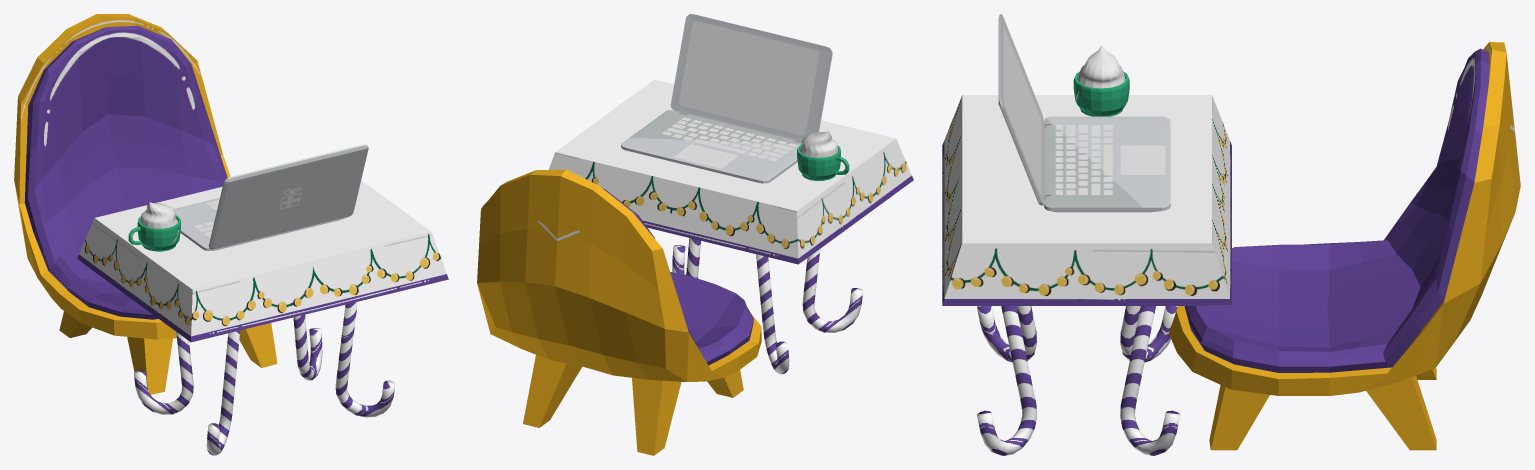
The model's file is scene3_furniture.glb.
The picture shows the model from 3 angles, left to right: view 1: azimuth 30°, elevation 25°; view 2: azimuth 150°, elevation 25°; view 3: azimuth 270°, elevation 25°; orthographic projection. The views are drawn at different scales.
Visible parts, largest first — view 1: Chair Cushion, Table, Cube, Table_Legs_F, Cylinder; view 2: Chair Cushion, Table, Cube, Table_Legs_F, Cylinder; view 3: Chair Cushion, Table, Cube, Table_Legs_F, Cylinder.
Part boxes in pixels (box(x1,y1,x2,y2)): Chair Cushion: box(14, 14, 277, 394); Table: box(77, 180, 448, 342); Cube: box(174, 144, 368, 250); Table_Legs_F: box(134, 301, 395, 455); Cylinder: box(128, 202, 180, 251); Chair Cushion: box(477, 169, 761, 455); Table: box(548, 79, 913, 264); Cube: box(621, 14, 832, 183); Table_Legs_F: box(648, 228, 863, 374); Cylinder: box(797, 131, 849, 180); Chair Cushion: box(1169, 42, 1520, 450); Table: box(942, 95, 1231, 305); Cube: box(998, 14, 1170, 212); Table_Legs_F: box(977, 306, 1180, 455); Cylinder: box(1073, 45, 1129, 116).
Size of the model in its own units: 2.46 by 2.58 by 3.75.
Materials: 9 (7 with a texture image).
